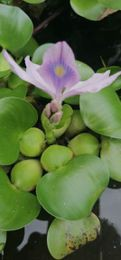water_hyacinth: (0, 1, 121, 259)
